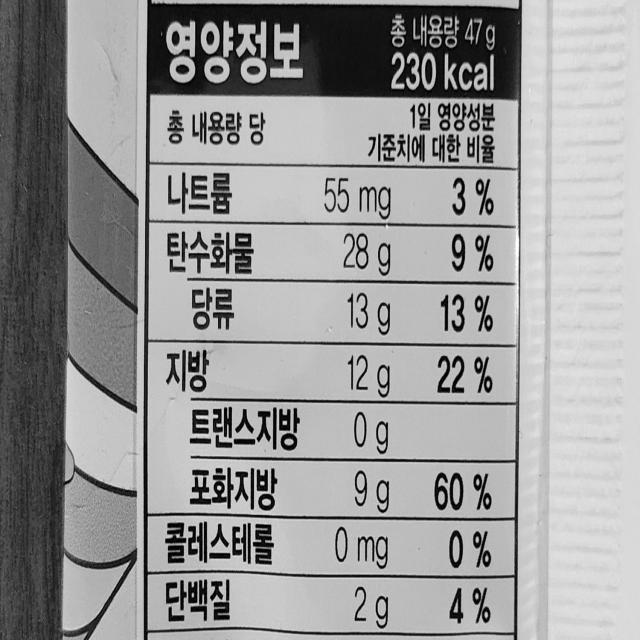Nutrition Label: (145, 0, 525, 640)
